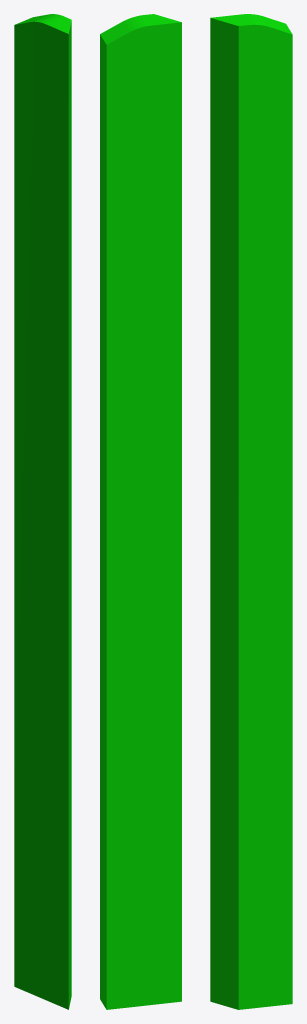
3 views of the same model, side by side, from view 1: azimuth 90°, elevation 25°; view 2: azimuth 150°, elevation 25°; view 3: azimuth 330°, elevation 25° (orthographic).
Visible parts, largest first — view 1: Plane.039; view 2: Plane.039; view 3: Plane.039.
Part boxes in pixels (x1,y1,x2,y2): Plane.039: (14, 14, 71, 1009); Plane.039: (100, 14, 181, 1009); Plane.039: (210, 14, 292, 1009).
Size of the model in its own units: 900 by 13170 by 704.
